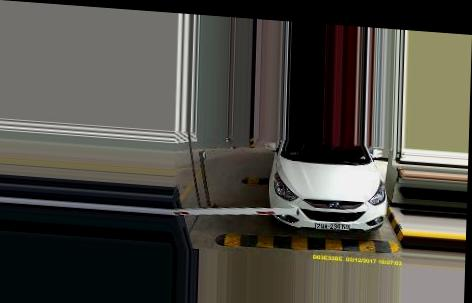License_Plate: (315, 220, 351, 233)
